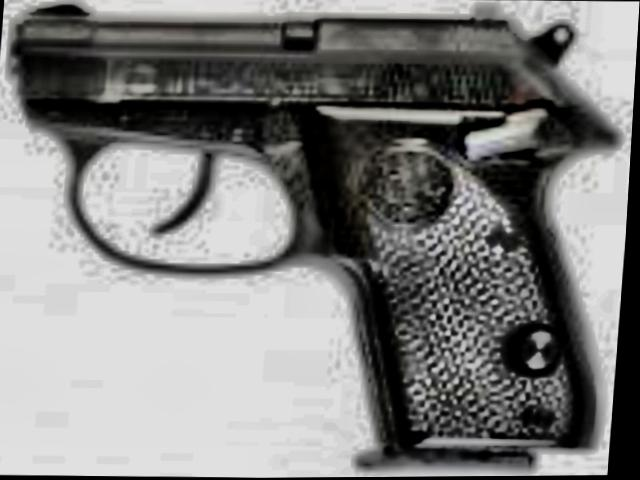pistol: (0, 0, 632, 473)
